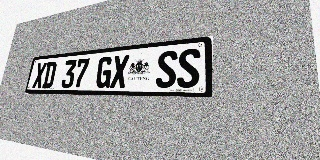3: (60, 59, 77, 88)
7: (72, 58, 90, 88)
D: (42, 61, 57, 88)
G: (95, 56, 114, 88)
S: (177, 48, 200, 88), (155, 50, 178, 88)
X: (110, 55, 129, 88), (32, 62, 47, 88)
